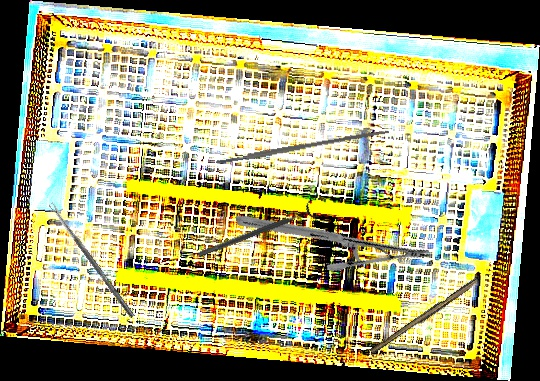Fixation Ring: (194, 199, 318, 264)
Needle Holder: (235, 160, 431, 314)
Scalpel Handle: (369, 276, 480, 358), (215, 127, 390, 166)
Surgical Spoon: (48, 201, 136, 319)
